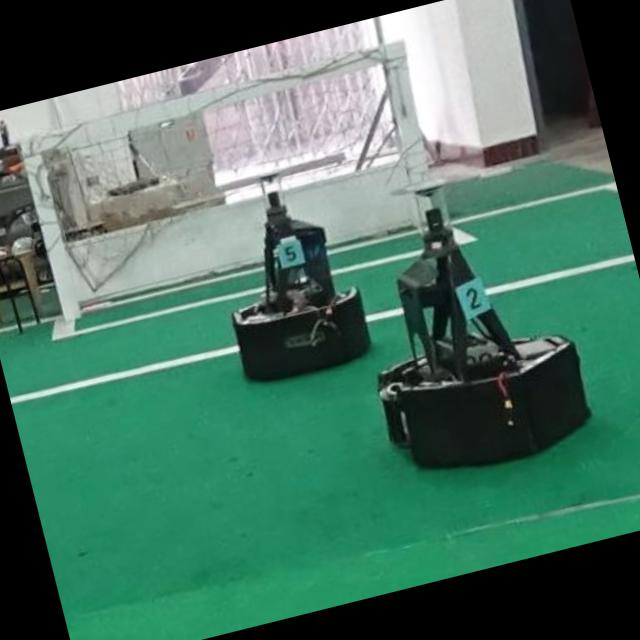goal: (24, 153, 81, 321)
robot: (378, 208, 588, 466), (231, 192, 371, 379)
